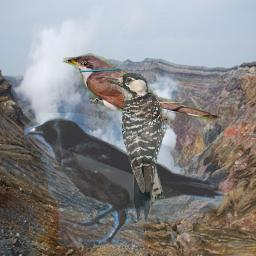Crow: (24, 113, 227, 247)
Cuckoo: (62, 51, 223, 129)
Woodpecker: (102, 72, 178, 226)
